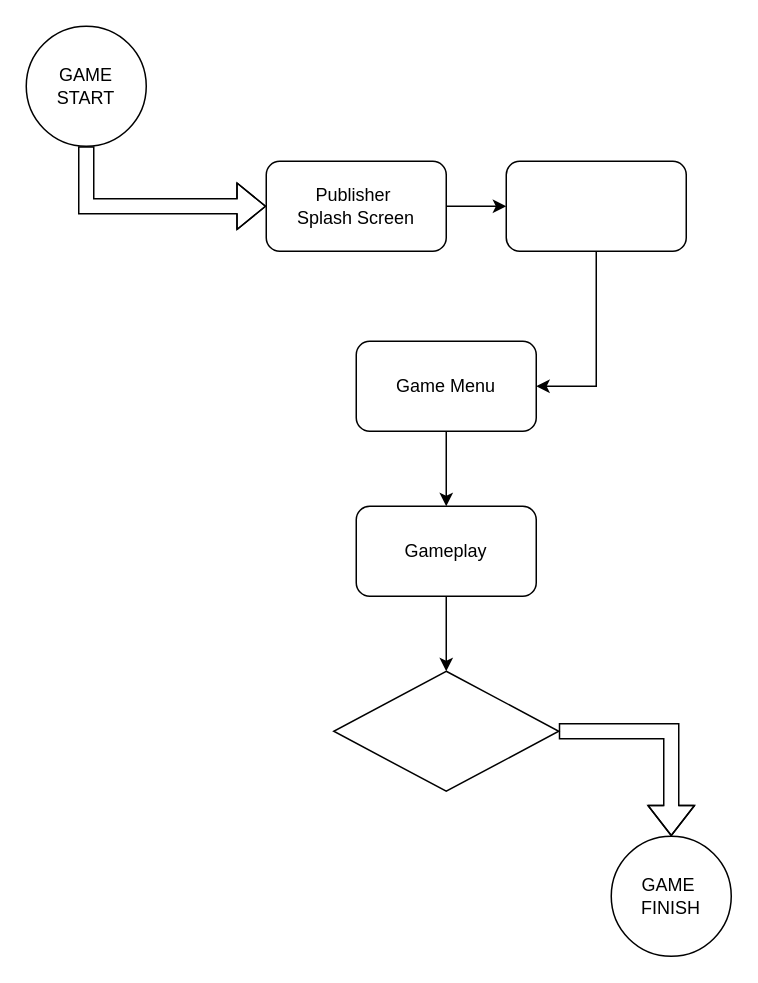
Some shapes in this 758 by 983 pixel diagram are drawn without their labels. The box of each missing label's shape, as (x1, y1, x2, y2) in pixels:
Developer Splash Screen: (505, 160, 686, 251)
Retry/Out Win/Lose: (332, 670, 559, 791)
